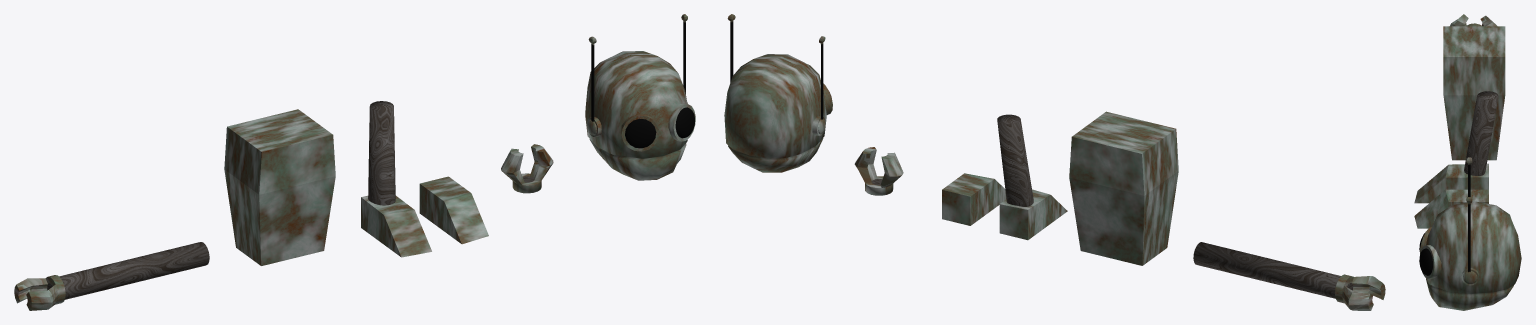
Rendered from robo1parts.fbx.
The picture shows the model from 3 angles, left to right: view 1: azimuth 30°, elevation 25°; view 2: azimuth 150°, elevation 25°; view 3: azimuth 270°, elevation 25°; orthographic projection. The views are drawn at different scales.
Visible parts, largest first — view 1: Robo1_4, Robo1_1, Robo1_5, Robo1_3, Robo1_6, Robo1_2; view 2: Robo1_4, Robo1_1, Robo1_3, Robo1_5, Robo1_6, Robo1_2; view 3: Robo1_1, Robo1_4, Robo1_5, Robo1_6, Robo1_3.
Boxes of the visible parts, left/top/right/bottom form: Robo1_4: left=224, top=109, right=335, bottom=265; Robo1_1: left=585, top=14, right=695, bottom=180; Robo1_5: left=361, top=101, right=431, bottom=257; Robo1_3: left=14, top=242, right=209, bottom=310; Robo1_6: left=419, top=176, right=488, bottom=244; Robo1_2: left=501, top=144, right=553, bottom=193; Robo1_4: left=1069, top=111, right=1178, bottom=265; Robo1_1: left=724, top=14, right=832, bottom=172; Robo1_3: left=1193, top=242, right=1385, bottom=310; Robo1_5: left=997, top=114, right=1067, bottom=240; Robo1_6: left=942, top=173, right=1006, bottom=225; Robo1_2: left=854, top=147, right=903, bottom=195; Robo1_1: left=1419, top=157, right=1521, bottom=310; Robo1_4: left=1443, top=26, right=1505, bottom=160; Robo1_5: left=1414, top=91, right=1498, bottom=203; Robo1_6: left=1414, top=189, right=1488, bottom=228; Robo1_3: left=1450, top=14, right=1497, bottom=26.
Size of the model in its own units: 3.04 by 0.6369 by 0.4828.
